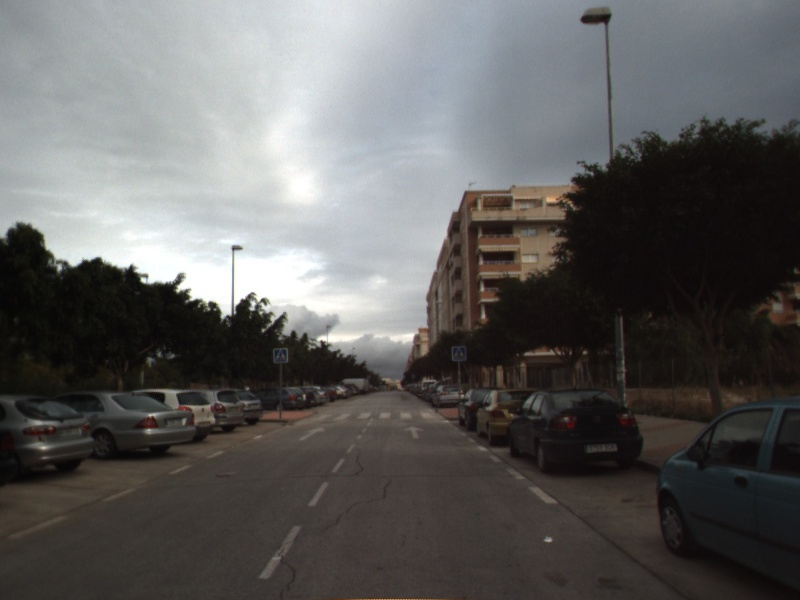STRAIGHT: (297, 425, 328, 442), (401, 423, 427, 440)
